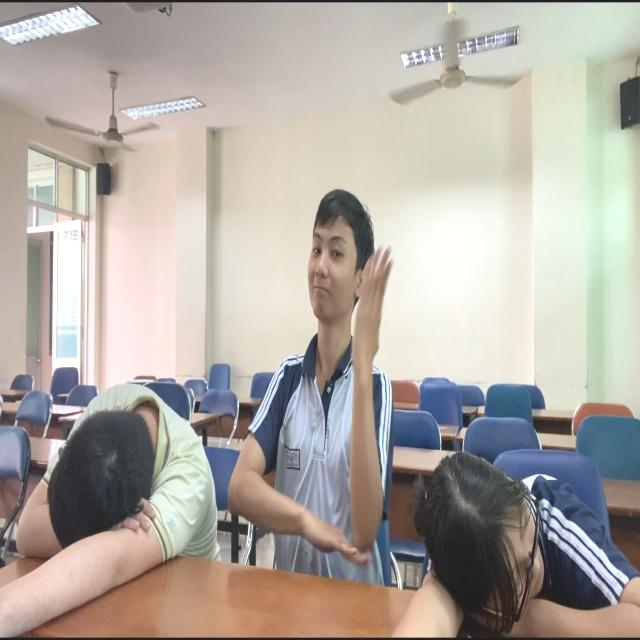raise_hand: (254, 179, 402, 534)
sleep: (372, 409, 640, 633), (1, 372, 208, 636)
